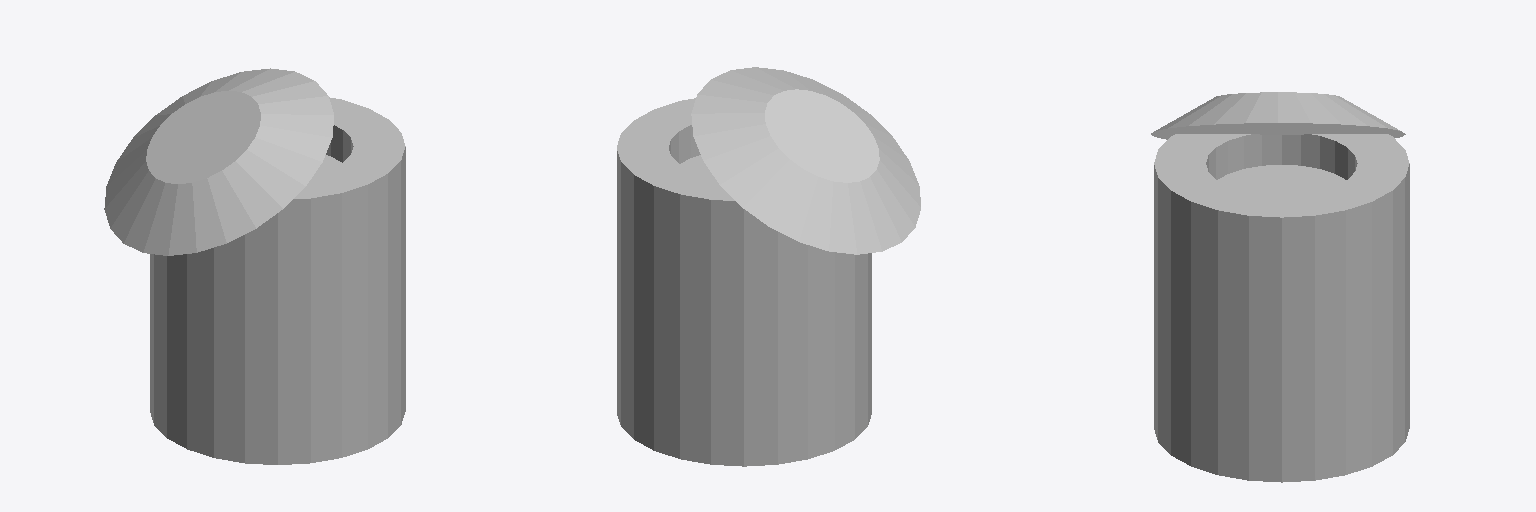
Rendered from Bin1.obj.
The picture shows the model from 3 angles: view 1: azimuth 30°, elevation 25°; view 2: azimuth 150°, elevation 25°; view 3: azimuth 270°, elevation 25°; orthographic projection.
Parts seen in each view (by area): view 1: mergedBlocks; view 2: mergedBlocks; view 3: mergedBlocks.
Part boxes in pixels (bbox=[...]): mergedBlocks: bbox=[104, 68, 405, 464]; mergedBlocks: bbox=[617, 67, 920, 466]; mergedBlocks: bbox=[1151, 92, 1409, 482].
Size of the model in its own units: 0.8431 by 0.975 by 0.71.